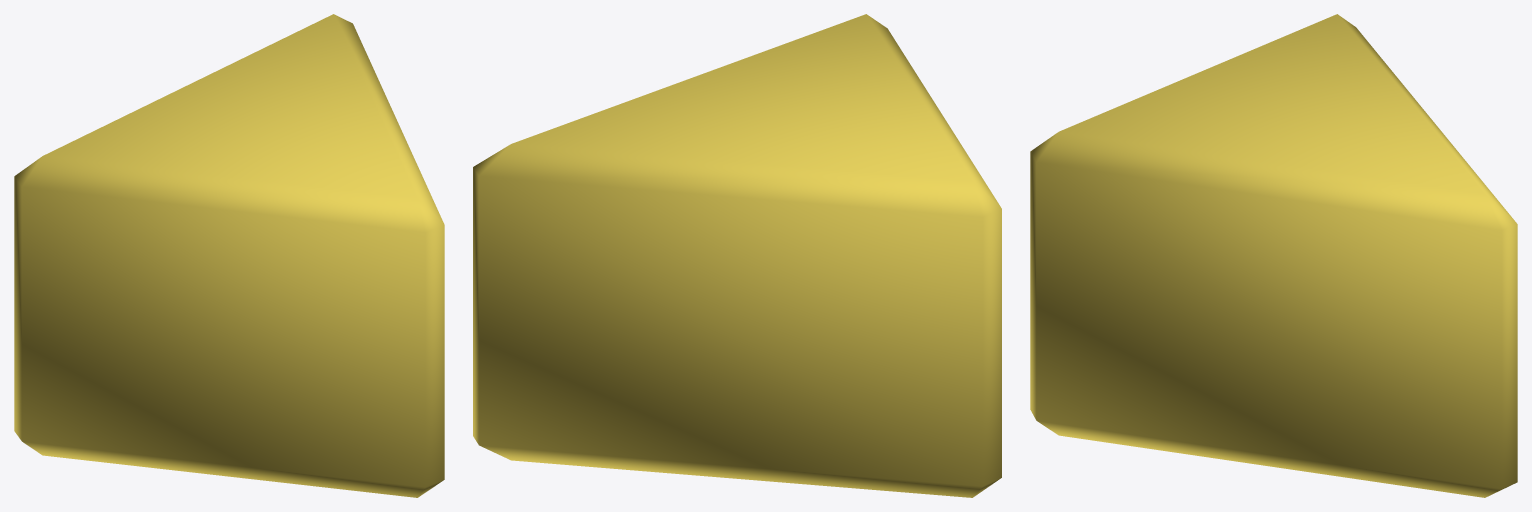
The model's file is Cheese.glb.
3 renders of one model, left to right at view 1: azimuth 30°, elevation 25°; view 2: azimuth 150°, elevation 25°; view 3: azimuth 270°, elevation 25°, orthographic. The views are drawn at different scales.
Parts seen in each view (by area): view 1: Cheese; view 2: Cheese; view 3: Cheese.
Boxes of the visible parts, box(x1,y1,x2,y2) form: Cheese: box(14, 14, 444, 497); Cheese: box(473, 14, 1001, 497); Cheese: box(1030, 14, 1517, 497).
Bounding box in the file's own units: 2.91 × 2 × 2.91.
